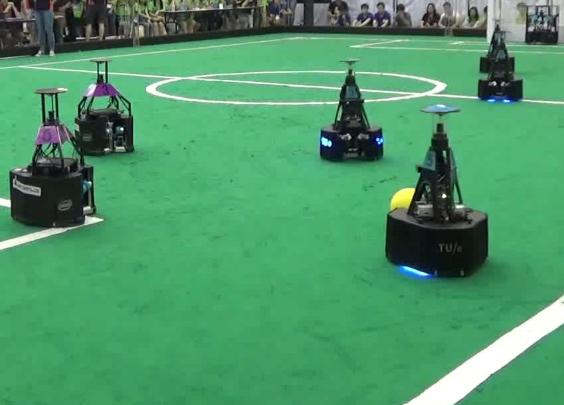robot: (385, 102, 492, 279), (3, 84, 98, 229), (318, 55, 388, 164), (65, 56, 139, 157), (474, 17, 524, 104)
